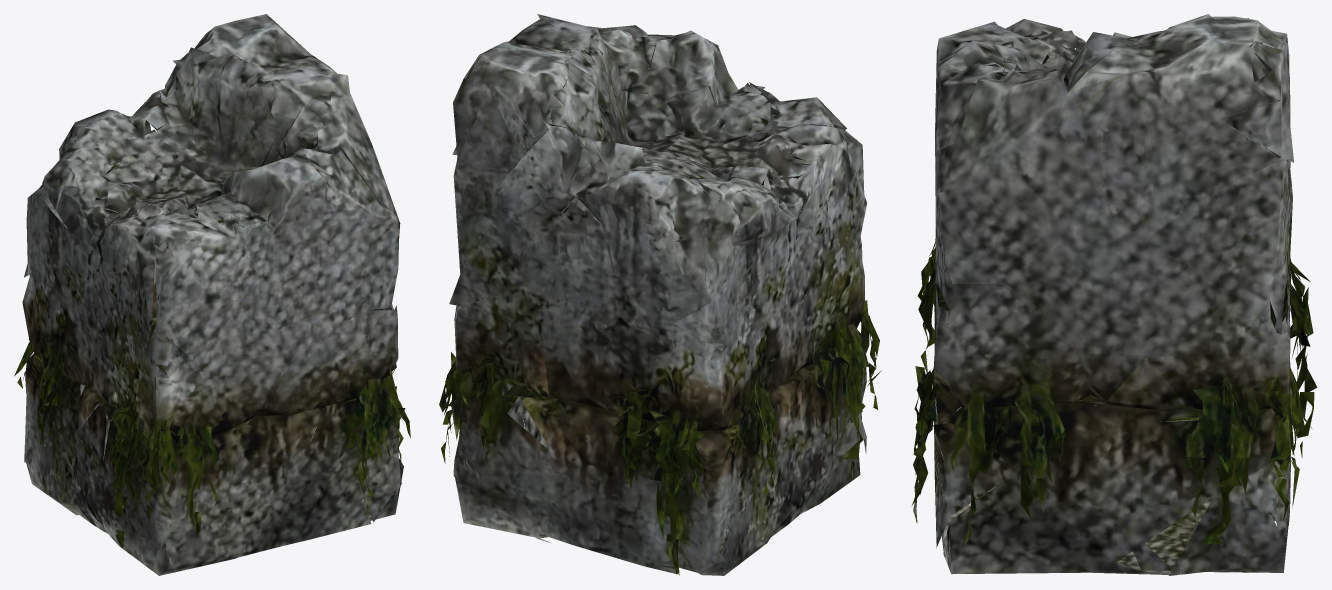
The model's file is ruin_fen.glb.
3 views of the same model, side by side, from view 1: azimuth 30°, elevation 25°; view 2: azimuth 150°, elevation 25°; view 3: azimuth 270°, elevation 25° (orthographic). The views are drawn at different scales.
Parts seen in each view (by area): view 1: ruin_fen_p2; view 2: ruin_fen_p2; view 3: ruin_fen_p2.
Part boxes in pixels (left/top/right/bottom): ruin_fen_p2: left=14, top=14, right=410, bottom=575; ruin_fen_p2: left=439, top=14, right=881, bottom=575; ruin_fen_p2: left=912, top=14, right=1317, bottom=575.
Bounding box in the file's own units: 0.9987 × 1.41 × 0.9813.
1 material, 1 textured.
